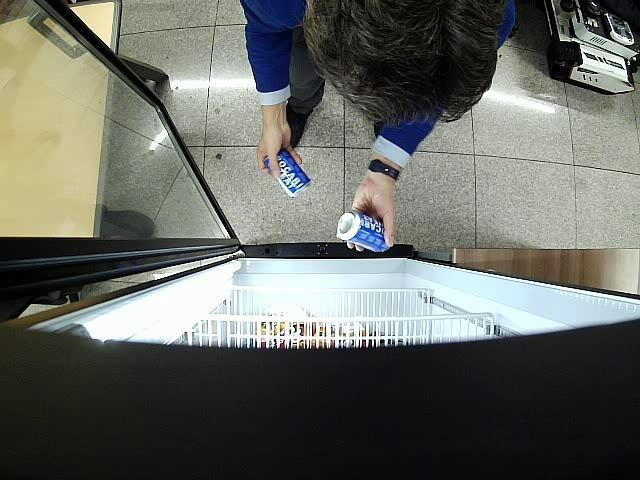13_pocariSweat: (263, 148, 311, 198), (337, 210, 390, 251)
